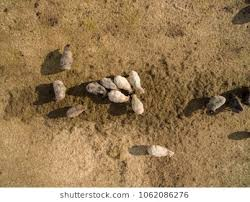sheep: (126, 65, 144, 94), (57, 43, 75, 71), (204, 93, 226, 113), (147, 143, 174, 159), (51, 79, 67, 103), (114, 72, 132, 93), (66, 104, 88, 118), (85, 83, 107, 97), (132, 93, 144, 117), (108, 91, 130, 103), (100, 75, 115, 89)
